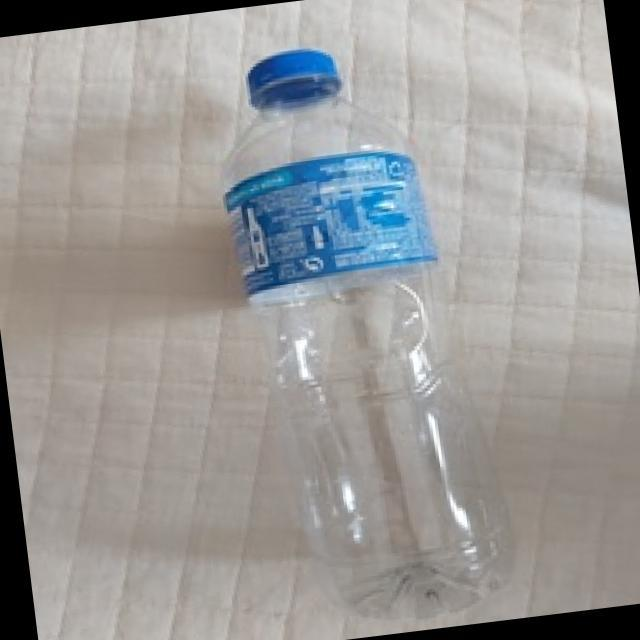good: (192, 23, 531, 640)
